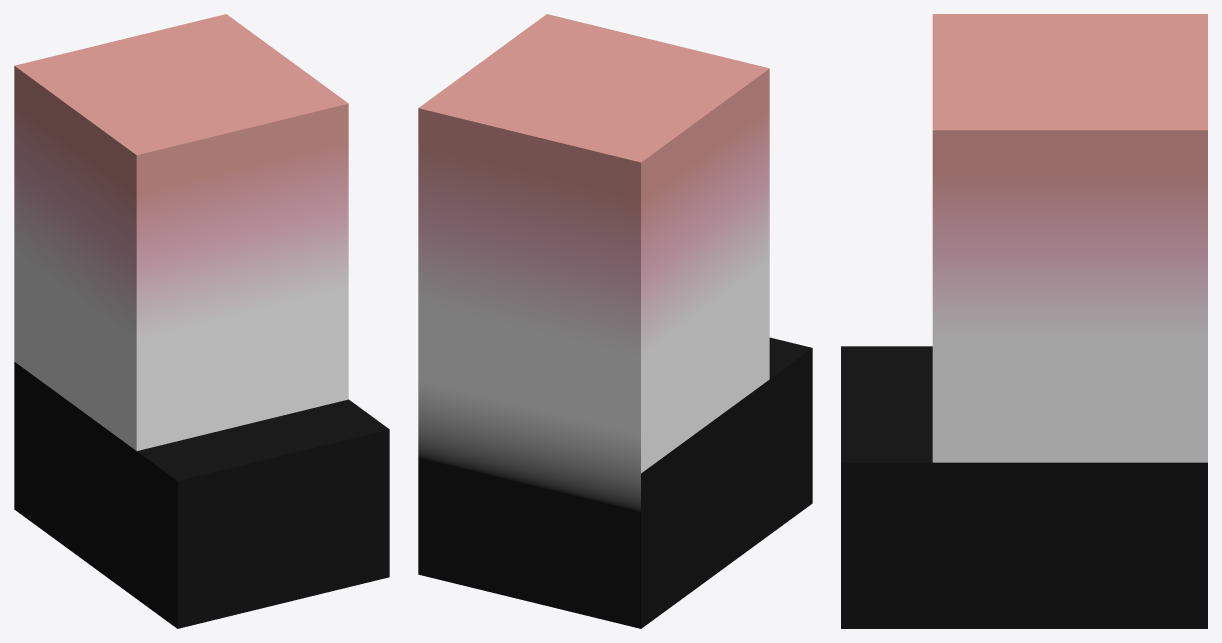
The model's file is devil_legL.fbx.
The picture shows the model from 3 angles, left to right: view 1: azimuth 30°, elevation 25°; view 2: azimuth 150°, elevation 25°; view 3: azimuth 270°, elevation 25°; orthographic projection. The views are drawn at different scales.
Parts seen in each view (by area): view 1: devil_legL; view 2: devil_legL; view 3: devil_legL.
Part boxes in pixels (box(x1,y1,x2,y2)): devil_legL: box(14, 14, 389, 628); devil_legL: box(418, 14, 812, 628); devil_legL: box(841, 14, 1207, 628).
Size of the model in its own units: 3 by 6 by 4.
1 material, 1 textured.
